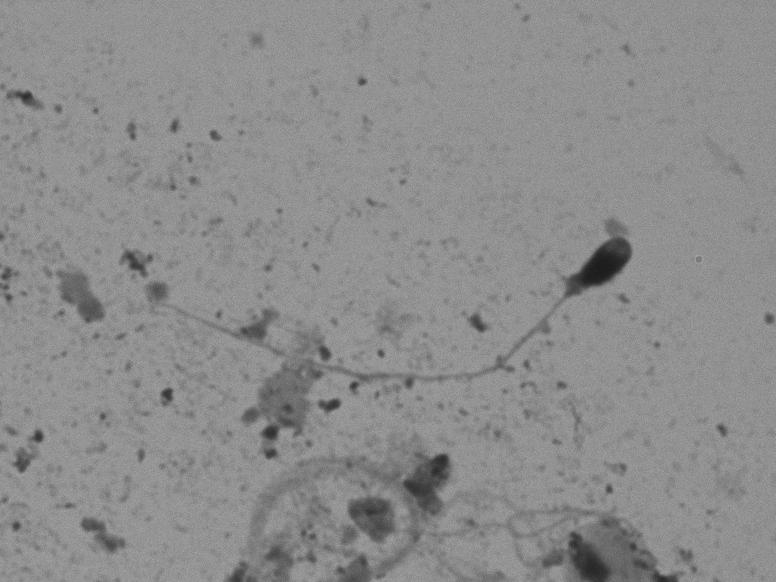Abnormal: (109, 203, 643, 417)
